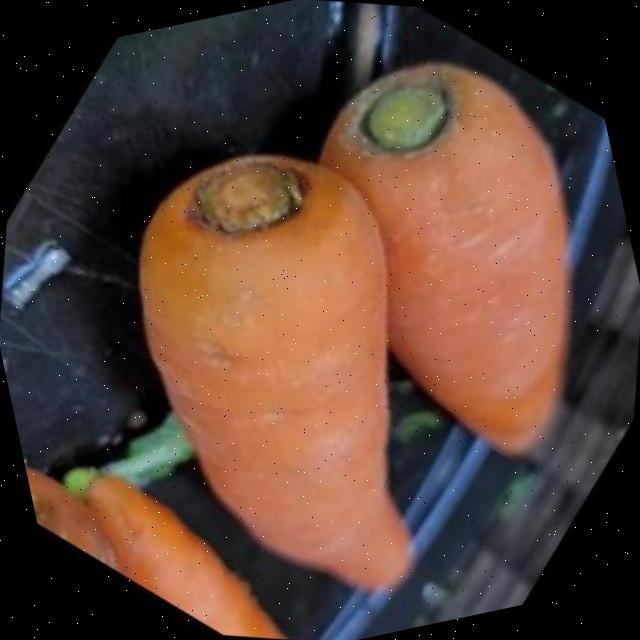carrot: (138, 154, 407, 586), (321, 63, 570, 451), (86, 478, 279, 635)
